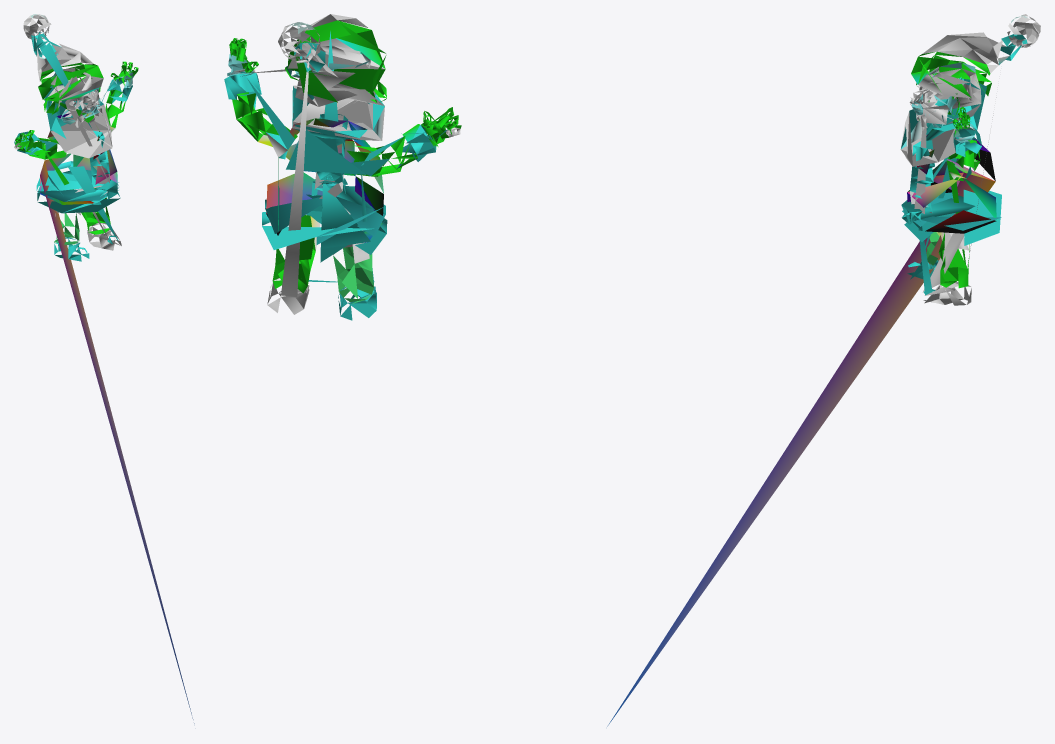
3 views of the same model, side by side, from view 1: azimuth 30°, elevation 25°; view 2: azimuth 150°, elevation 25°; view 3: azimuth 270°, elevation 25° (orthographic). The views are drawn at different scales.
Parts seen in each view (by area): view 1: node_MeshObject-289924096-PolyPaper21; view 2: node_MeshObject-289924096-PolyPaper21; view 3: node_MeshObject-289924096-PolyPaper21.
Part boxes in pixels (<box>): node_MeshObject-289924096-PolyPaper21: <box>14,14,194,723</box>; node_MeshObject-289924096-PolyPaper21: <box>224,14,461,320</box>; node_MeshObject-289924096-PolyPaper21: <box>607,14,1040,726</box>.
Bounding box in the file's own units: 0.4192 × 1.7 × 0.9321.
